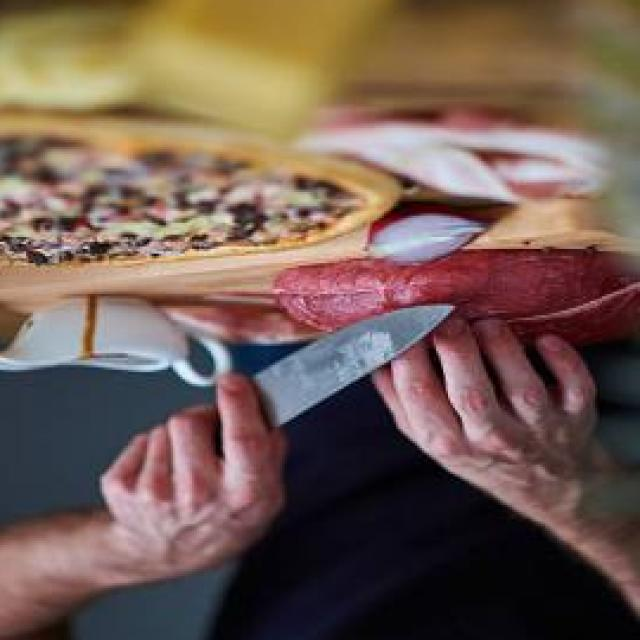knife: (161, 298, 455, 464)
